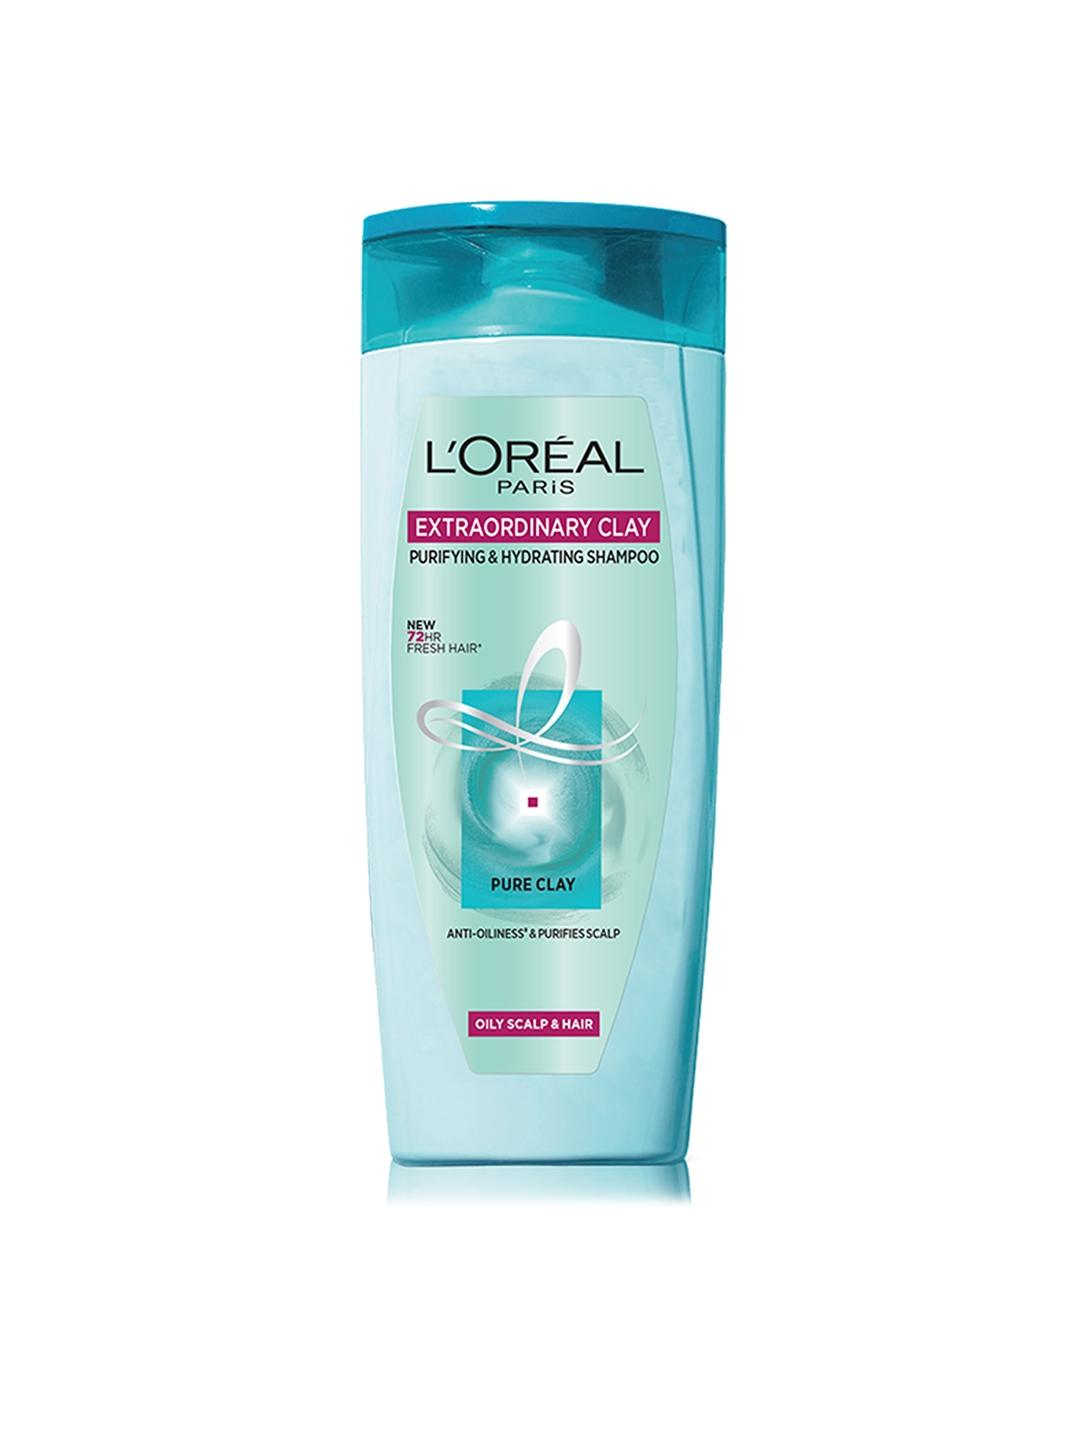Loreal: (358, 209, 726, 1161)
